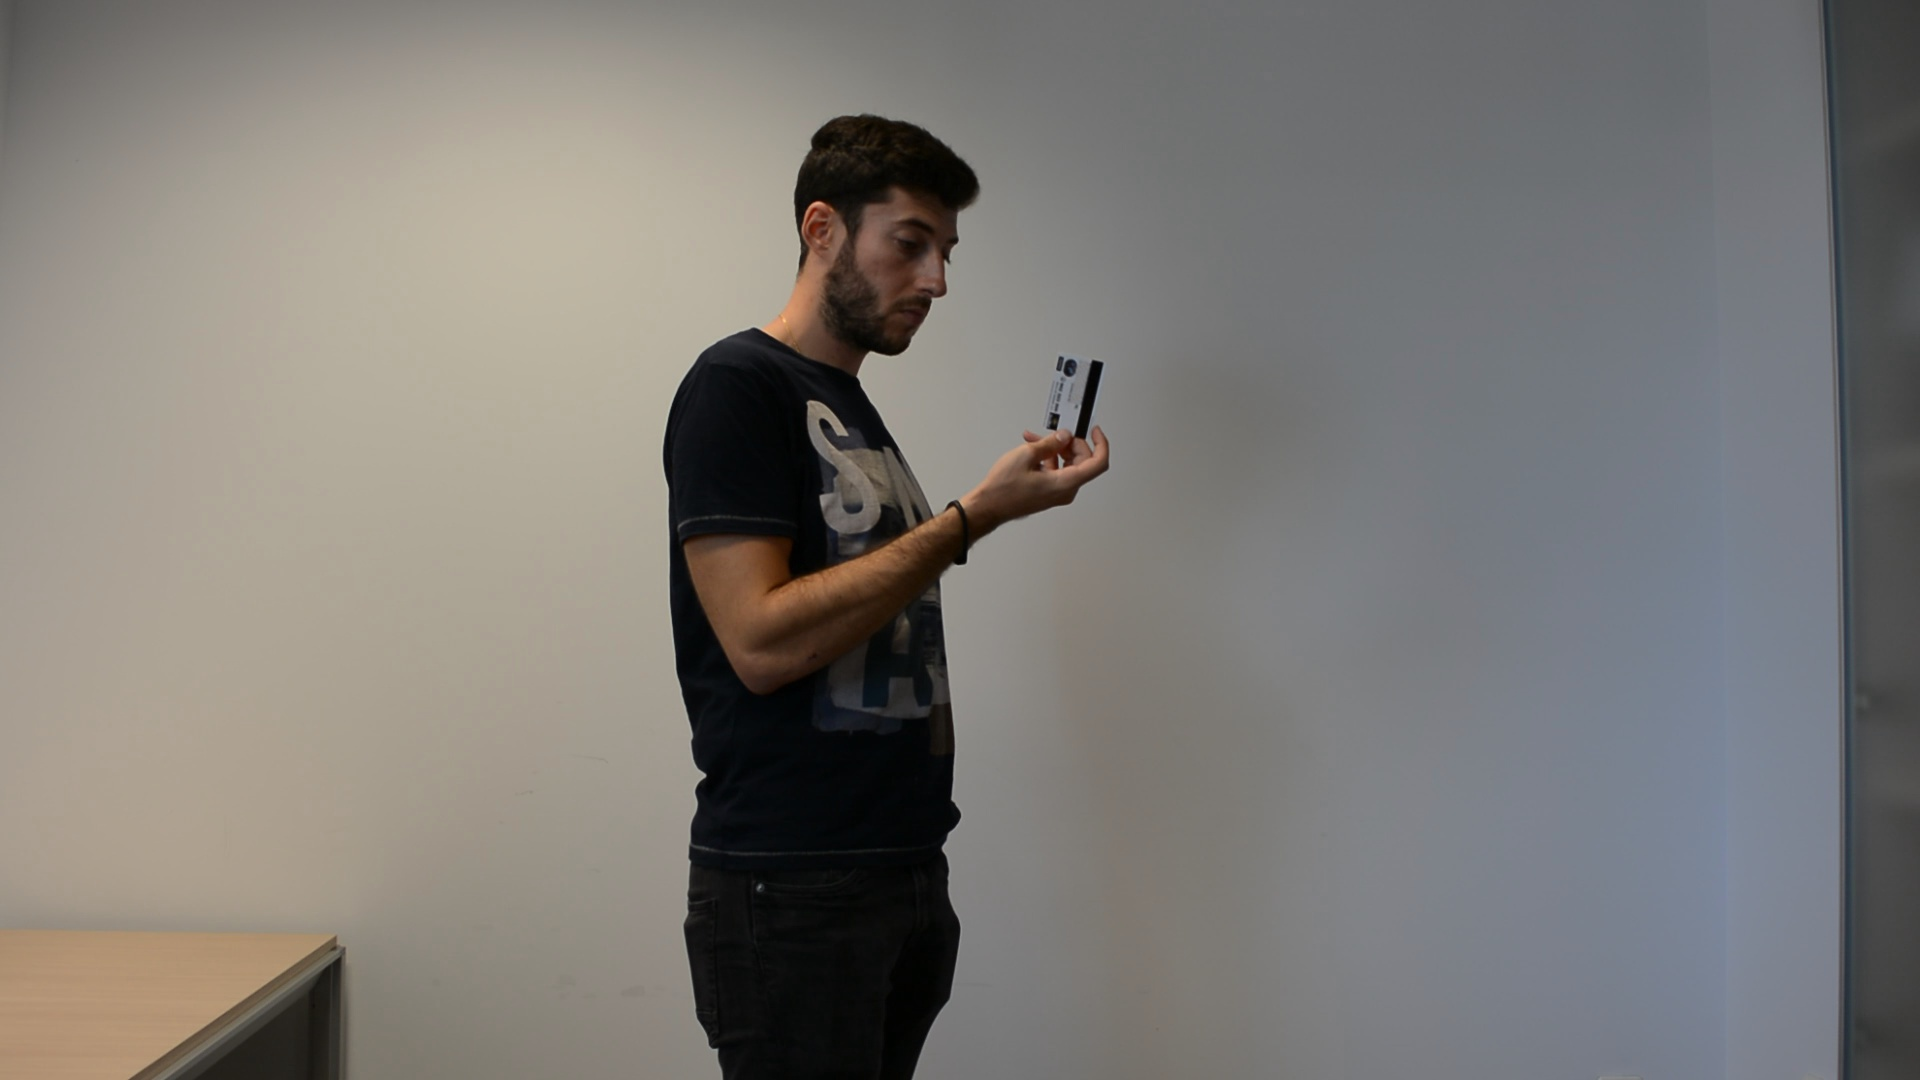tarjeta: (1034, 349, 1113, 454)
